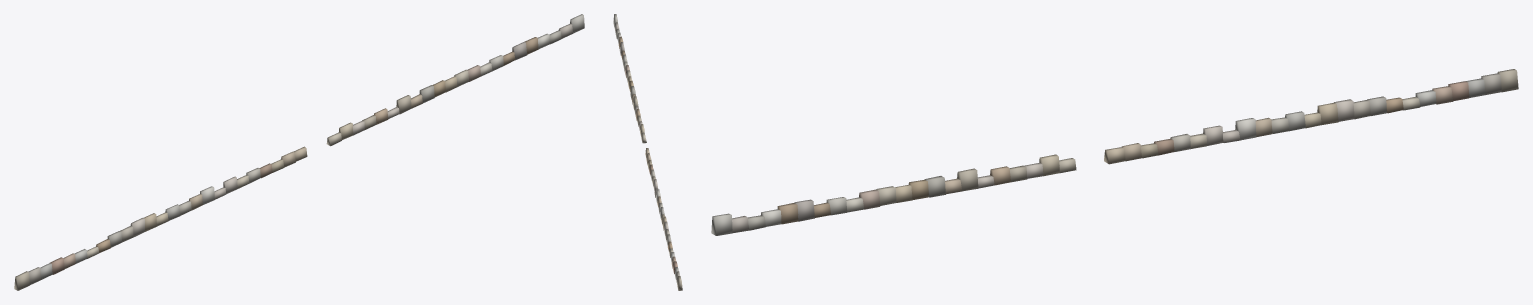
The model's file is farm_-33_-23_far.glb.
3 renders of one model, left to right at view 1: azimuth 90°, elevation 25°; view 2: azimuth 150°, elevation 25°; view 3: azimuth 270°, elevation 25°, orthographic. The views are drawn at different scales.
Visible parts, largest first — view 1: geometry_0; view 2: geometry_0; view 3: geometry_0.
Boxes of the visible parts, bbox=[...] form: geometry_0: bbox=[14, 14, 584, 290]; geometry_0: bbox=[613, 14, 682, 290]; geometry_0: bbox=[711, 69, 1518, 235].
Bounding box in the file's own units: 47.24 × 10.95 × 61.45.
